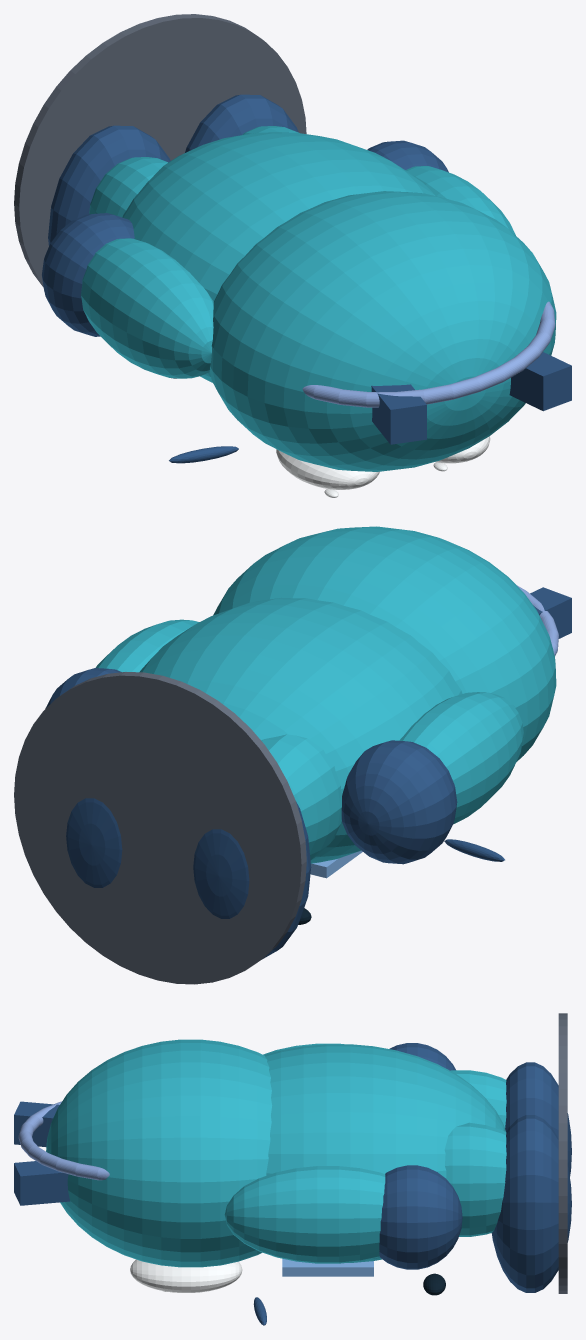
File: luma_reaction_sleepy.glb
3 renders of one model, top to bottom at view 1: azimuth 30°, elevation 25°; view 2: azimuth 150°, elevation 25°; view 3: azimuth 270°, elevation 25°, orthographic. The views are drawn at different scales.
Parts seen in each view (by area): view 1: CHR_Head, CHR_DisplayBase, CHR_Torso, CHR_LeftArm, CHR_LeftHand, CHR_LeftFoot, CHR_StatusRing, CHR_RightFoot, CHR_RightAntenna, CHR_LeftAntenna, CHR_LeftLeg, CHR_RightArm (+3 smaller); view 2: CHR_DisplayBase, CHR_Torso, CHR_Head, CHR_LeftHand, CHR_LeftArm, CHR_LeftLeg, CHR_LeftFoot, CHR_RightFoot, CHR_RightArm, CHR_LeftAntenna, CHR_RightHand, CHR_LeftBrow (+2 smaller); view 3: CHR_Head, CHR_Torso, CHR_RightArm, CHR_RightFoot, CHR_RightHand, CHR_RightLeg, CHR_LeftFoot, CHR_DisplayBase, CHR_RightEyeWhite, CHR_RightAntenna, CHR_StatusRing, CHR_ChestSensor (+4 smaller).
Part boxes in pixels (left/top/right/bottom): CHR_Head: left=209, top=191, right=556, bottom=471; CHR_DisplayBase: left=14, top=14, right=306, bottom=287; CHR_Torso: left=122, top=132, right=435, bottom=382; CHR_LeftArm: left=81, top=238, right=213, bottom=378; CHR_LeftHand: left=42, top=213, right=134, bottom=336; CHR_LeftFoot: left=48, top=125, right=170, bottom=245; CHR_StatusRing: left=302, top=301, right=555, bottom=407; CHR_RightFoot: left=185, top=94, right=298, bottom=152; CHR_RightAntenna: left=509, top=352, right=571, bottom=411; CHR_LeftAntenna: left=371, top=384, right=426, bottom=444; CHR_LeftLeg: left=89, top=157, right=167, bottom=217; CHR_RightArm: left=405, top=166, right=515, bottom=235; CHR_DisplayBase: left=14, top=672, right=306, bottom=984; CHR_Torso: left=139, top=597, right=462, bottom=863; CHR_Head: left=213, top=526, right=556, bottom=761; CHR_LeftHand: left=341, top=740, right=457, bottom=864; CHR_LeftArm: left=399, top=692, right=523, bottom=824; CHR_LeftLeg: left=261, top=734, right=341, bottom=859; CHR_LeftFoot: left=193, top=801, right=311, bottom=959; CHR_RightFoot: left=66, top=798, right=122, bottom=887; CHR_RightArm: left=95, top=619, right=199, bottom=672; CHR_LeftAntenna: left=530, top=587, right=571, bottom=638; CHR_RightHand: left=45, top=668, right=121, bottom=708; CHR_LeftBrow: left=444, top=839, right=504, bottom=861; CHR_Head: left=46, top=1039, right=272, bottom=1267; CHR_Torso: left=264, top=1044, right=505, bottom=1262; CHR_RightArm: left=224, top=1166, right=385, bottom=1263; CHR_RightFoot: left=491, top=1115, right=571, bottom=1292; CHR_RightHand: left=379, top=1165, right=462, bottom=1269; CHR_RightLeg: left=444, top=1122, right=506, bottom=1236; CHR_LeftFoot: left=505, top=1062, right=571, bottom=1176; CHR_DisplayBase: left=558, top=1013, right=567, bottom=1293; CHR_RightEyeWhite: left=130, top=1259, right=242, bottom=1292; CHR_RightAntenna: left=14, top=1161, right=70, bottom=1205; CHR_StatusRing: left=18, top=1101, right=109, bottom=1180; CHR_ChestSensor: left=282, top=1258, right=373, bottom=1276.
Size of the model in its own units: 2.64 by 1.9 by 3.78.
